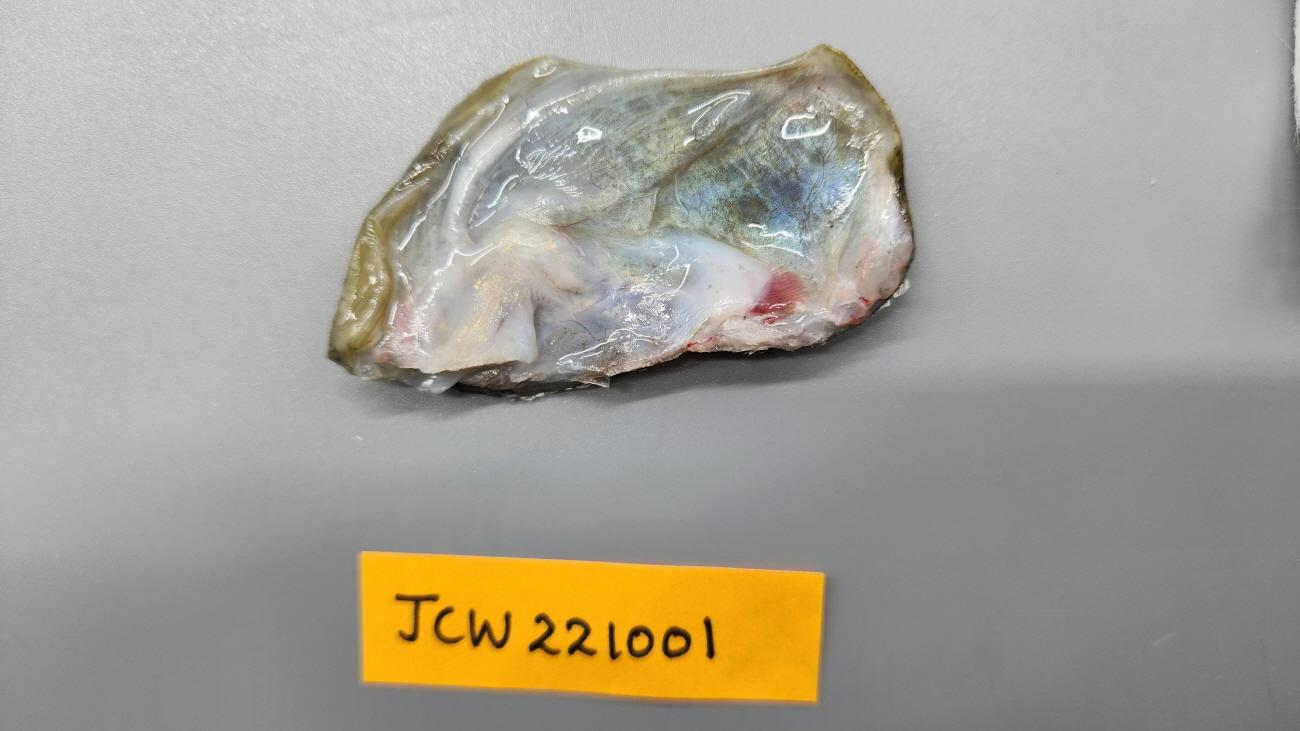POGCN: (322, 44, 919, 402)
